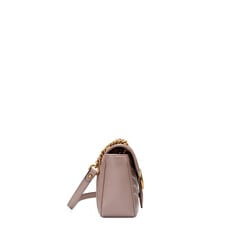Gucci: (84, 122, 162, 224)
